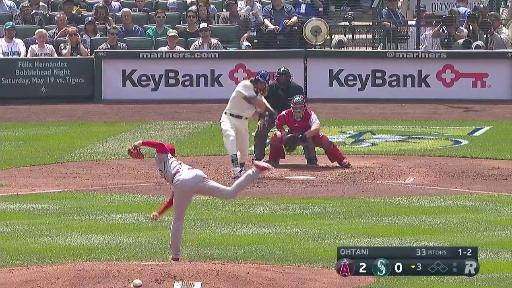pitcher: (127, 138, 272, 262)
